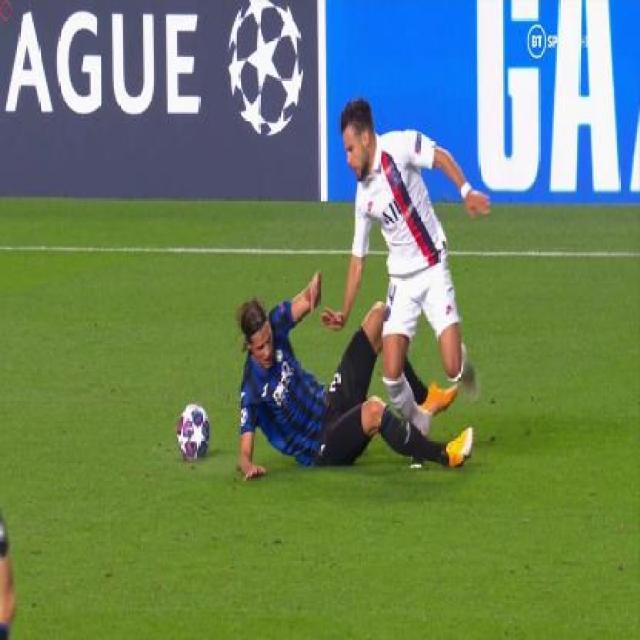ball: (173, 393, 216, 466)
player: (316, 76, 493, 462), (212, 266, 440, 488)
